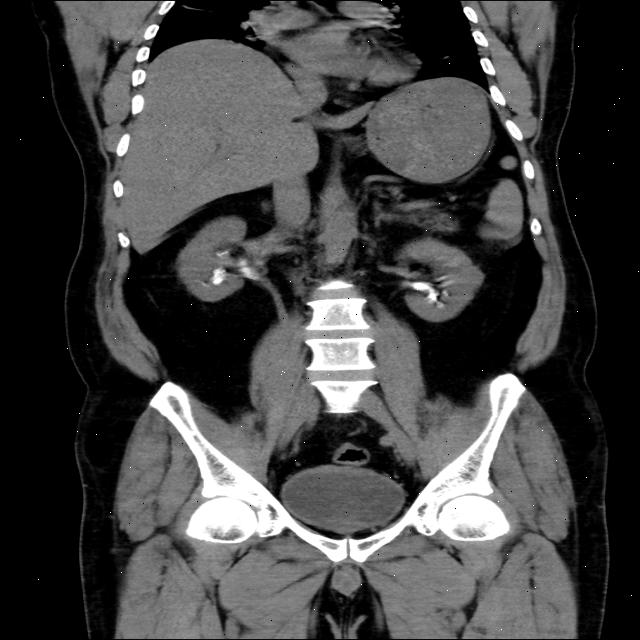kidneystone: (409, 282, 440, 302), (210, 266, 227, 286)
